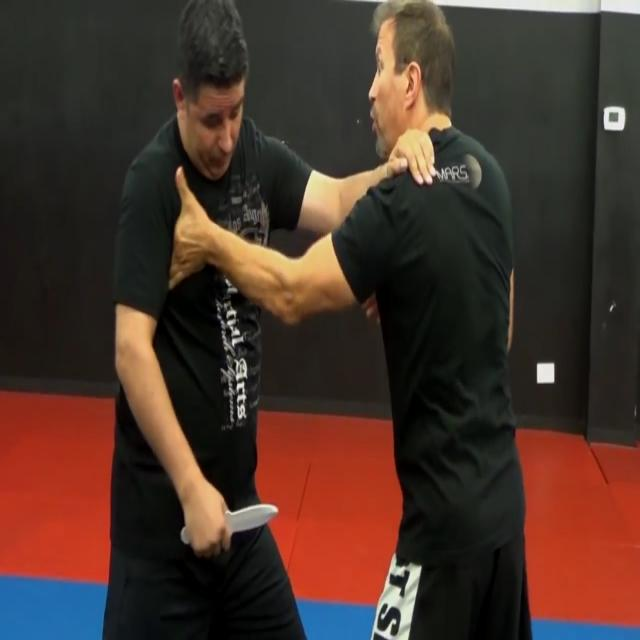knife: (224, 503, 280, 536)
